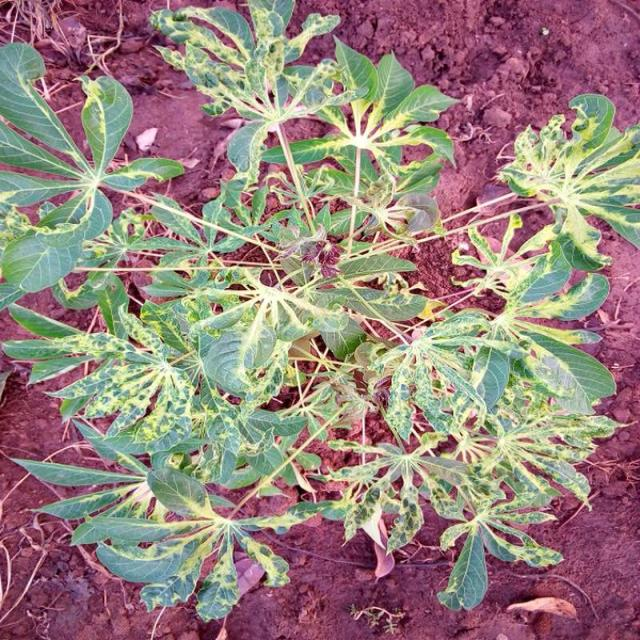cassava leaf: (2, 4, 638, 625)
